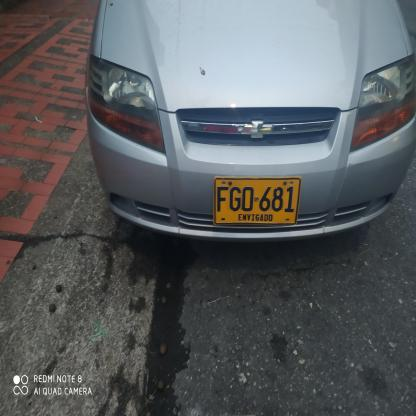placa: (208, 172, 302, 233)
